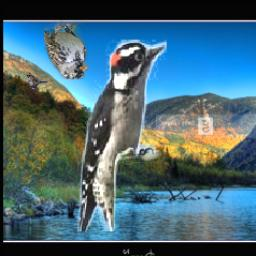Sparrow: (43, 21, 87, 80), (27, 73, 48, 91)
Woodpecker: (76, 41, 166, 232)
